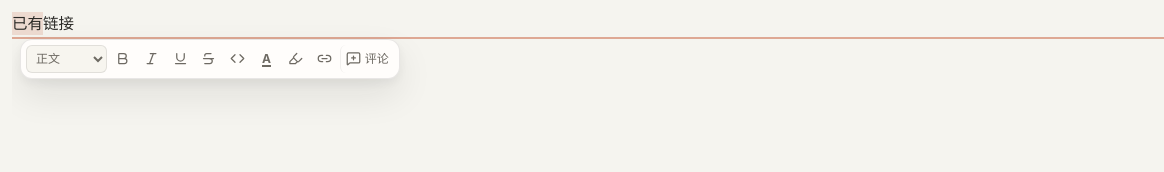
BubbleToolbar › links: 移除 removes link mark and closes panel
Check: the element named "选区格式" is shown, box x1=26 y1=45 x2=394 y2=73
What coordinates should you click on to do the following:
click the button named "编辑链接"
I would click on:
 (324, 59)
Its box is x1=311 y1=45 x2=337 y2=73.
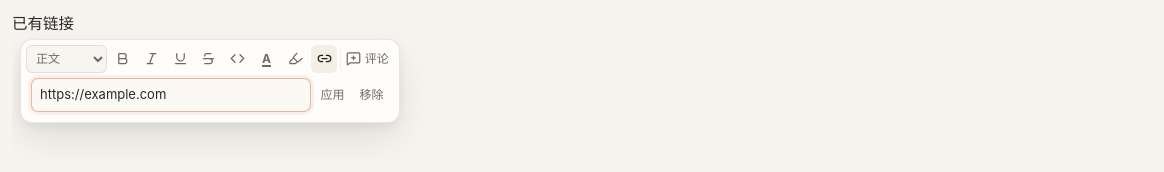
What coordinates should you click on to do the following:
click the button "移除"
I would click on:
 (372, 95)
Its box is x1=354 y1=81 x2=389 y2=109.
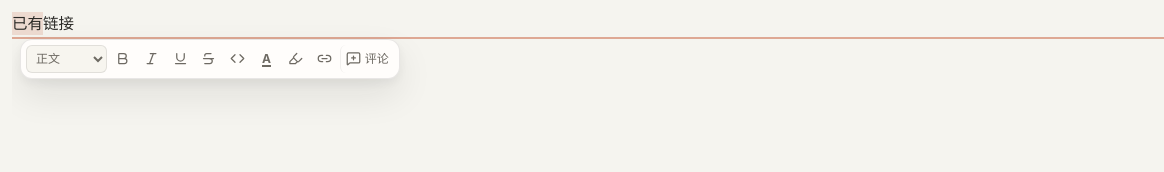
Check: the field labelled "链接地址" is gone
